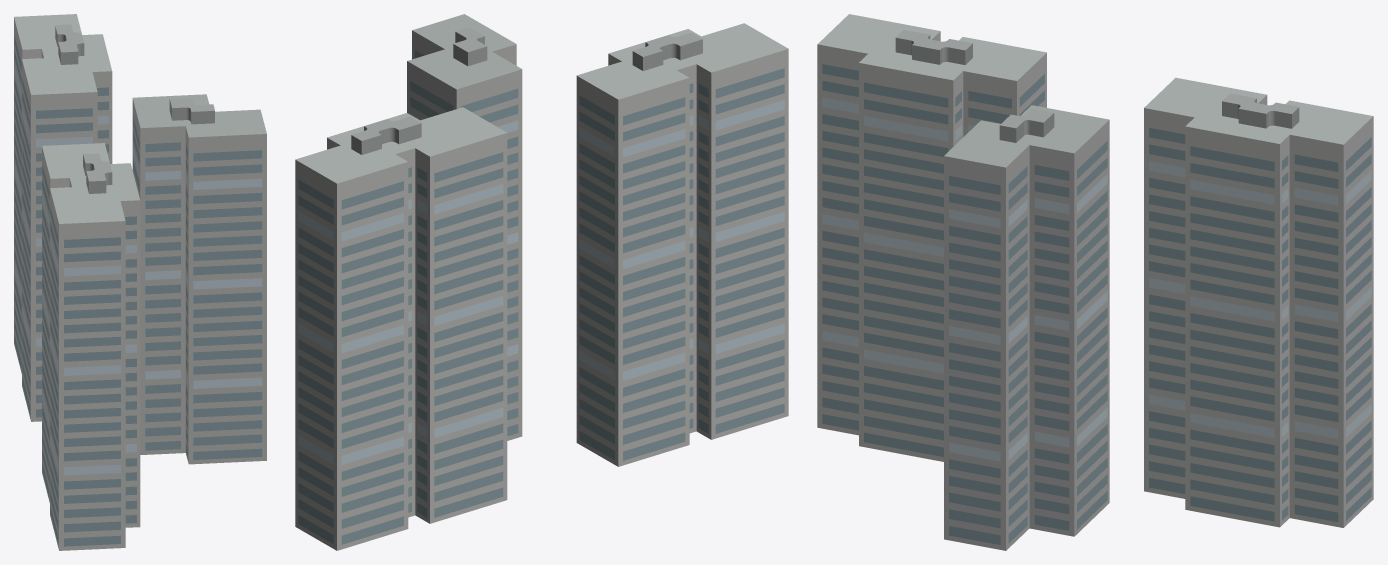
The model's file is apt-a14313001.glb.
3 views of the same model, side by side, from view 1: azimuth 30°, elevation 25°; view 2: azimuth 150°, elevation 25°; view 3: azimuth 270°, elevation 25° (orthographic). The views are drawn at different scales.
Parts seen in each view (by area): view 1: apt-a14313001; view 2: apt-a14313001; view 3: apt-a14313001.
Boxes of the visible parts, x1=… form: apt-a14313001: x1=14, y1=14, x2=266, y2=550; apt-a14313001: x1=295, y1=14, x2=788, y2=550; apt-a14313001: x1=817, y1=14, x2=1373, y2=550.
Size of the model in its own units: 53.79 by 65 by 82.29.
